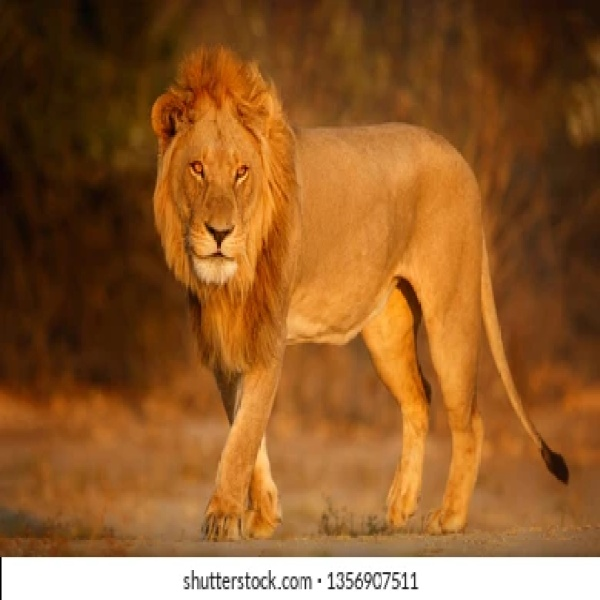Lion: (148, 43, 574, 544)
